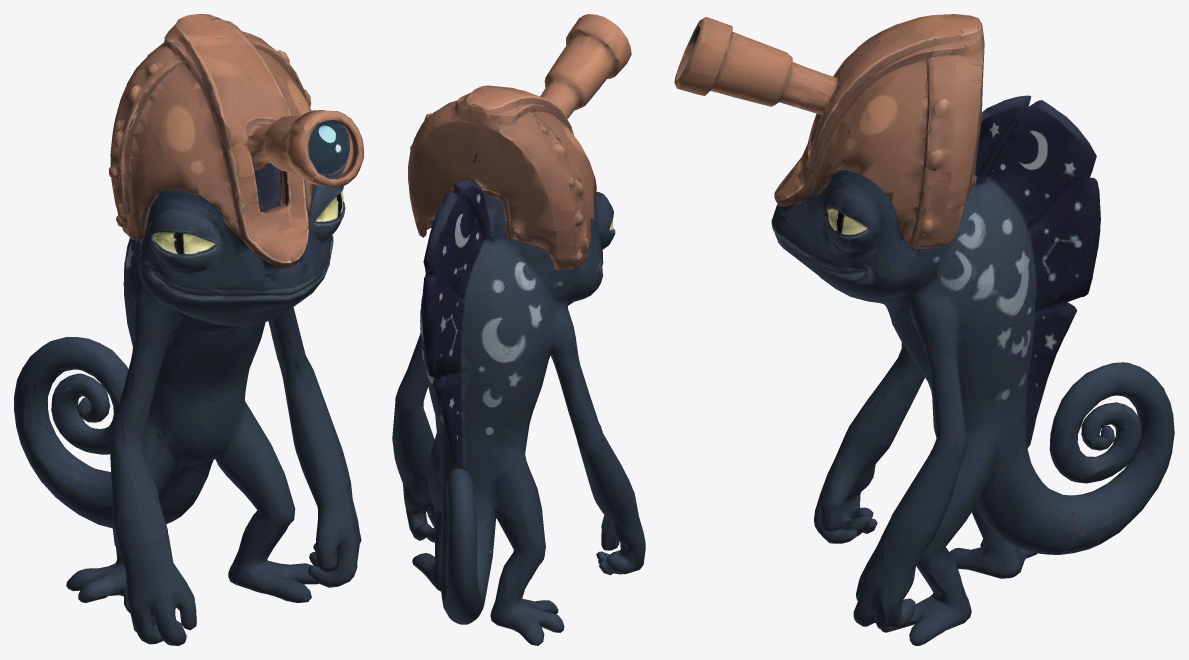
3 views of the same model, side by side, from view 1: azimuth 30°, elevation 25°; view 2: azimuth 150°, elevation 25°; view 3: azimuth 270°, elevation 25° (orthographic). The views are drawn at different scales.
Parts seen in each view (by area): view 1: Mesh_0; view 2: Mesh_0; view 3: Mesh_0.
Boxes of the visible parts, x1,y1,x2,y2 form: Mesh_0: (14, 14, 363, 645); Mesh_0: (392, 14, 645, 645); Mesh_0: (674, 14, 1174, 645).
Bounding box in the file's own units: 0.8614 × 1.9 × 1.49.
1 material, 1 textured.
